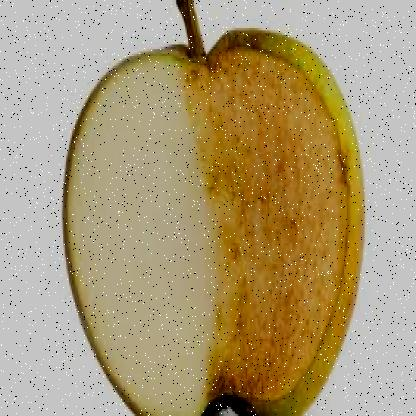damaged_apple: (66, 33, 364, 409)
